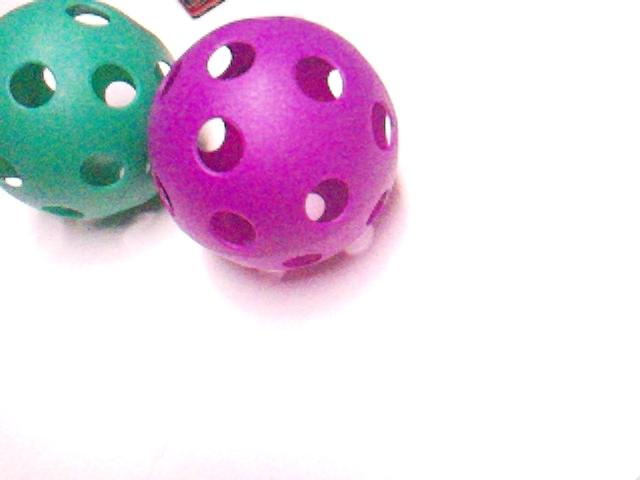Green: (0, 2, 176, 221)
Purple: (147, 17, 396, 273)
